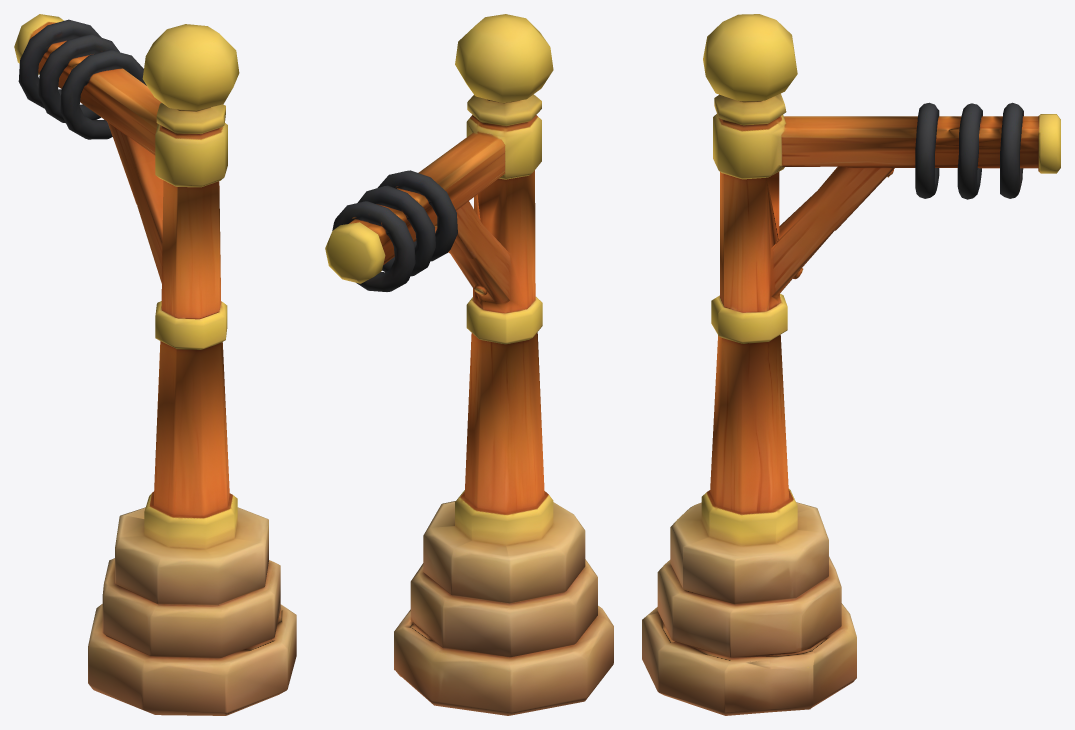
The model's file is tripo_raw.glb.
3 views of the same model, side by side, from view 1: azimuth 30°, elevation 25°; view 2: azimuth 150°, elevation 25°; view 3: azimuth 270°, elevation 25° (orthographic).
Visible parts, largest first — view 1: tripo_node_8734e397-bf16-46f6-88d7-8712075373bf; view 2: tripo_node_8734e397-bf16-46f6-88d7-8712075373bf; view 3: tripo_node_8734e397-bf16-46f6-88d7-8712075373bf.
Boxes of the visible parts, x1,y1,x2,y2 form: tripo_node_8734e397-bf16-46f6-88d7-8712075373bf: (14, 14, 296, 715); tripo_node_8734e397-bf16-46f6-88d7-8712075373bf: (325, 14, 613, 715); tripo_node_8734e397-bf16-46f6-88d7-8712075373bf: (642, 14, 1060, 715).
Bounding box in the file's own units: 0.2994 × 1 × 0.5793.
1 material, 1 textured.
